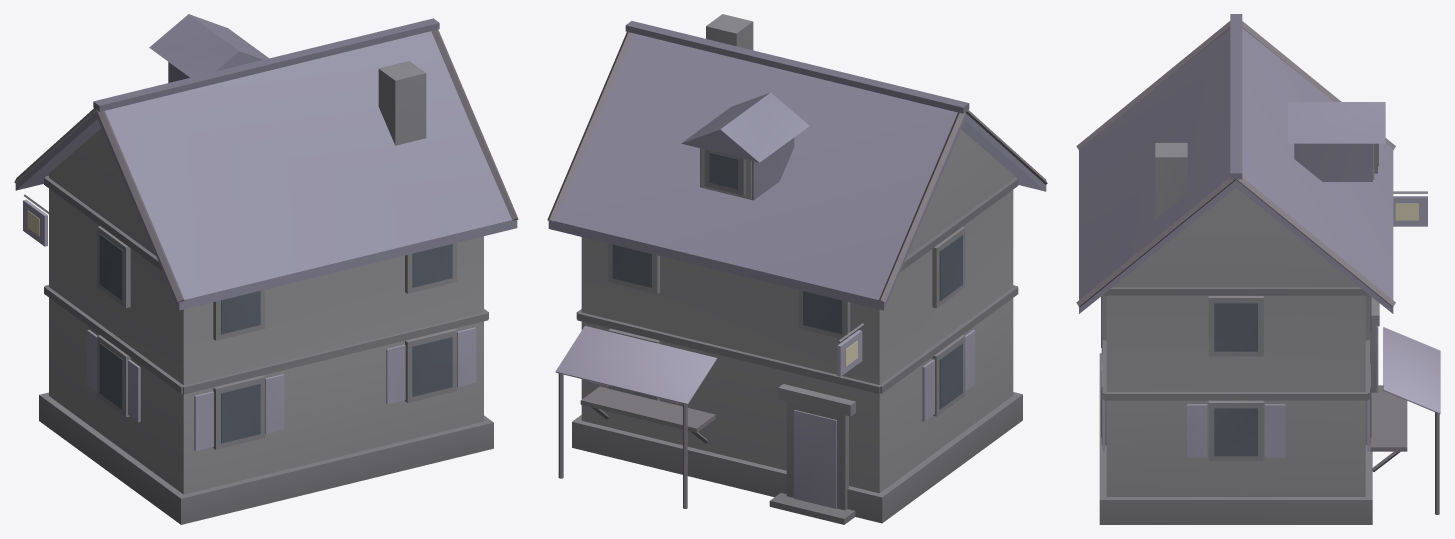
Rendered from shop_storm.gltf.
3 renders of one model, left to right at view 1: azimuth 30°, elevation 25°; view 2: azimuth 150°, elevation 25°; view 3: azimuth 270°, elevation 25°, orthographic. The views are drawn at different scales.
Parts seen in each view (by area): view 1: Body; view 2: Body; view 3: Body.
Boxes of the visible parts, left/top/right/bottom form: Body: left=14, top=14, right=518, bottom=524; Body: left=547, top=14, right=1047, bottom=524; Body: left=1076, top=14, right=1440, bottom=524.
Size of the model in its own units: 8.17 by 8.54 by 7.88.
